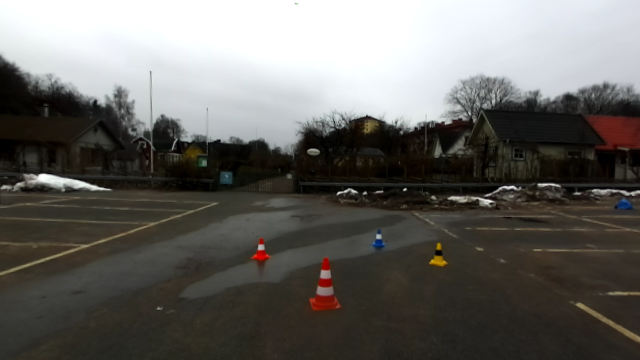blue: (371, 226, 387, 249)
orange: (249, 236, 271, 261)
orange2: (308, 255, 342, 310)
yellow: (426, 240, 447, 266)
